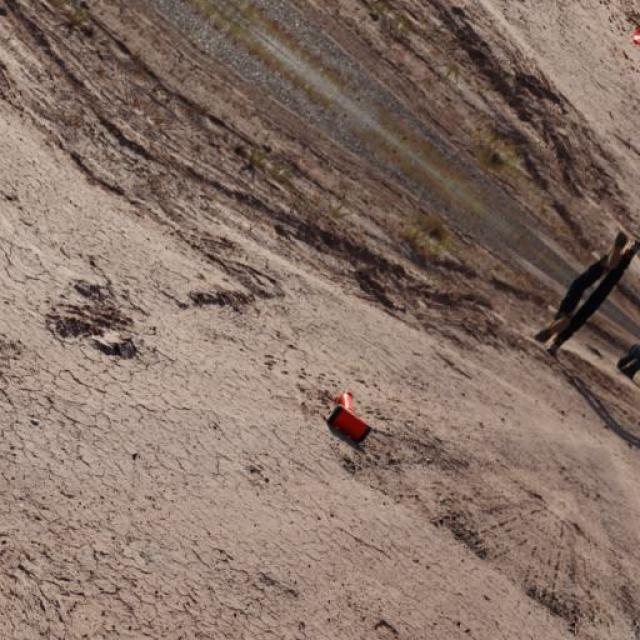mallet: (326, 388, 374, 442)
